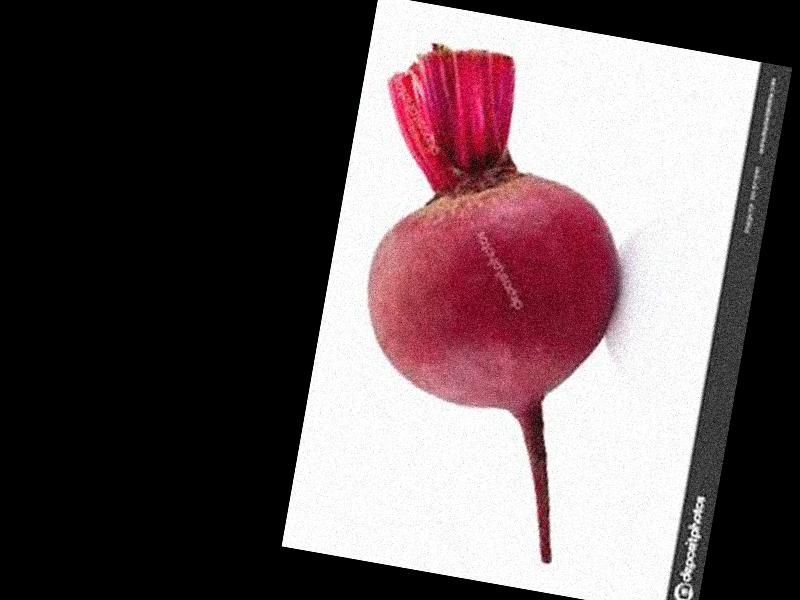Beet: (313, 34, 655, 567)
